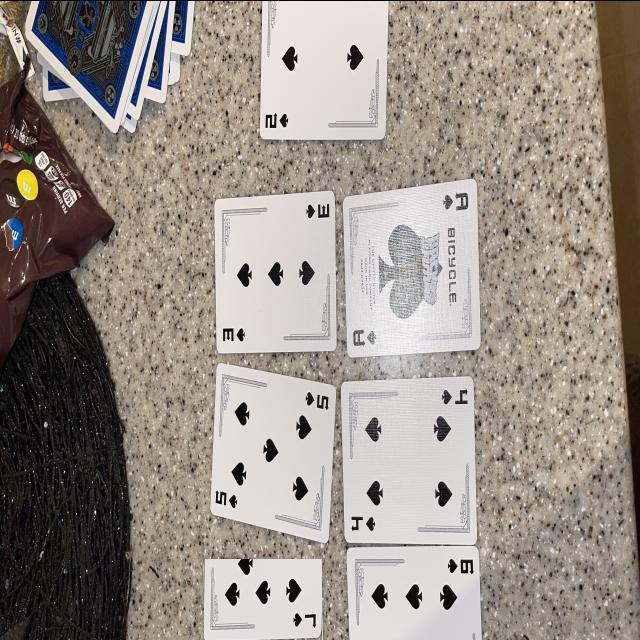2 of spades: (204, 558, 322, 640)
